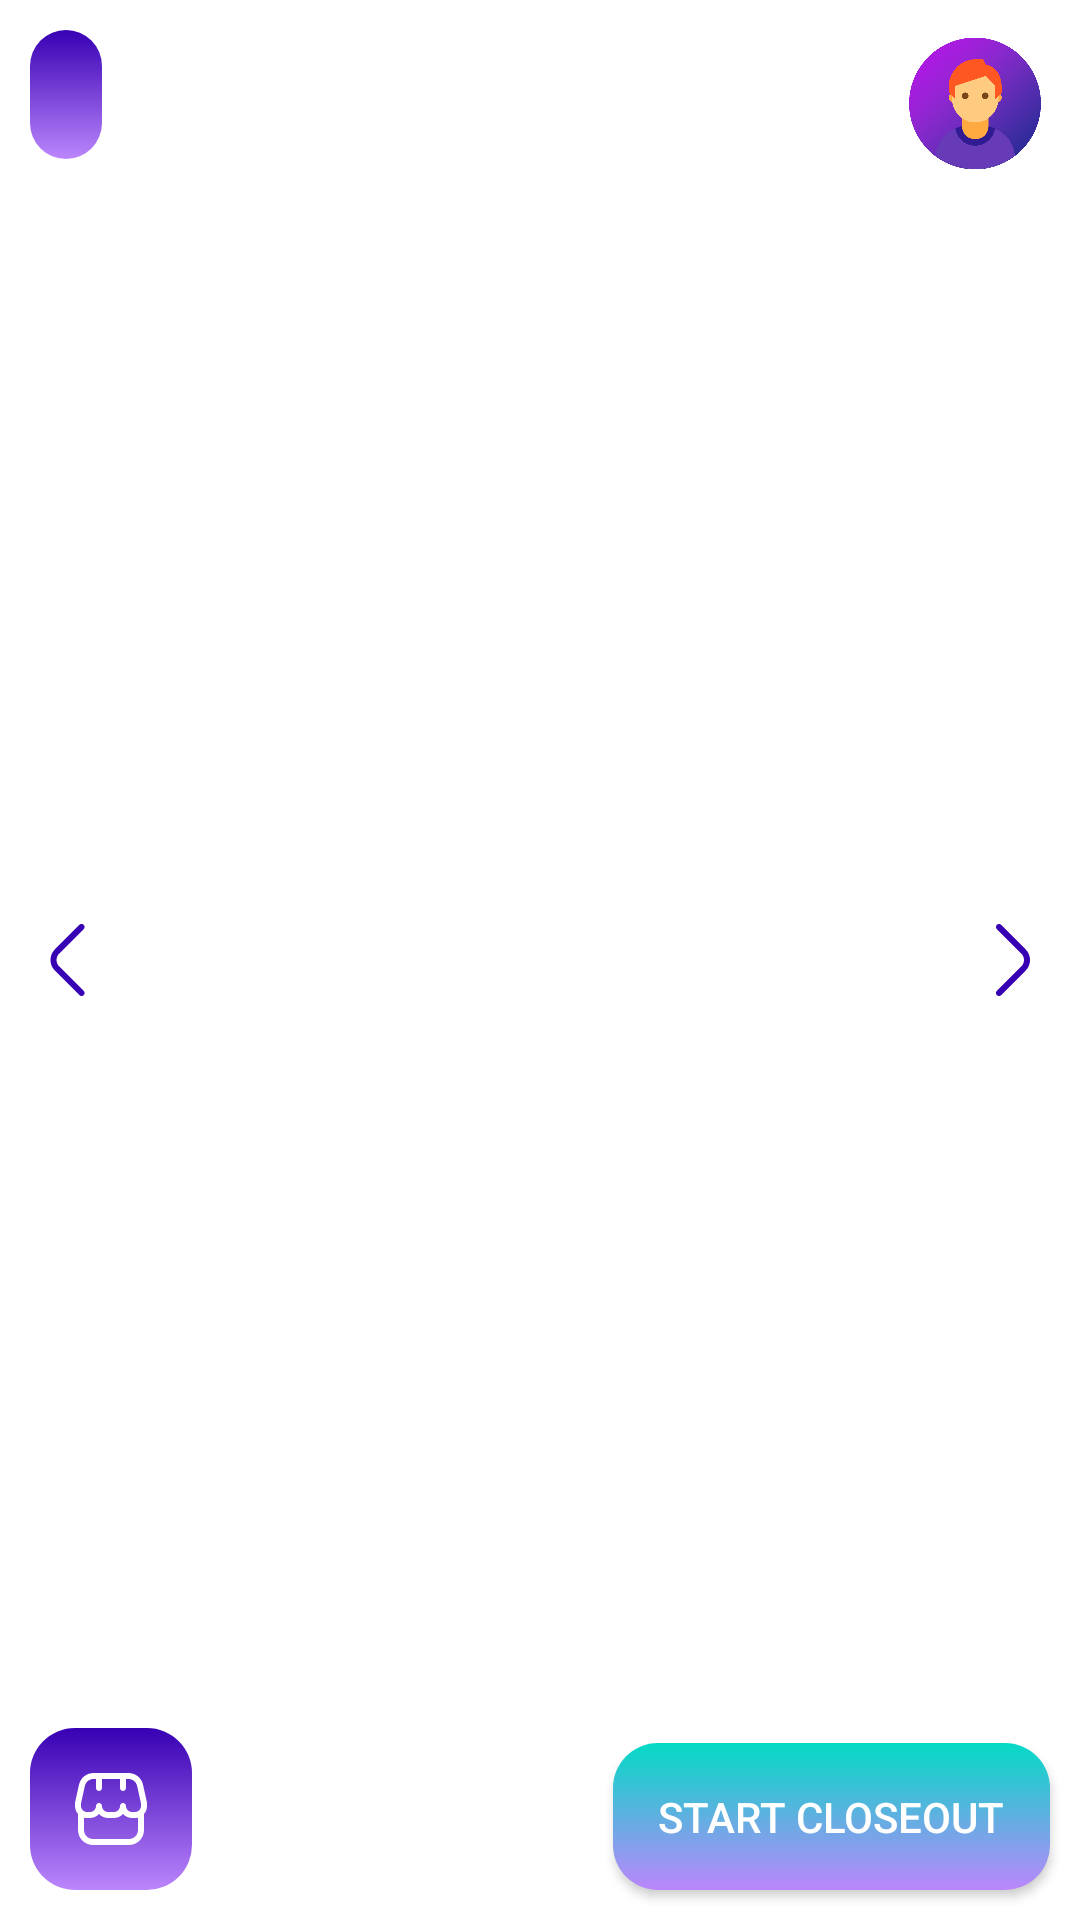

Screen size 1080 x 1920. Icon name, then its box in pixels as (x1, y1, x2, y2):
Next room: (996, 924, 1030, 996)
Prev room: (50, 924, 85, 996)
shop: (30, 1728, 192, 1890)
user: (909, 38, 1041, 169)
